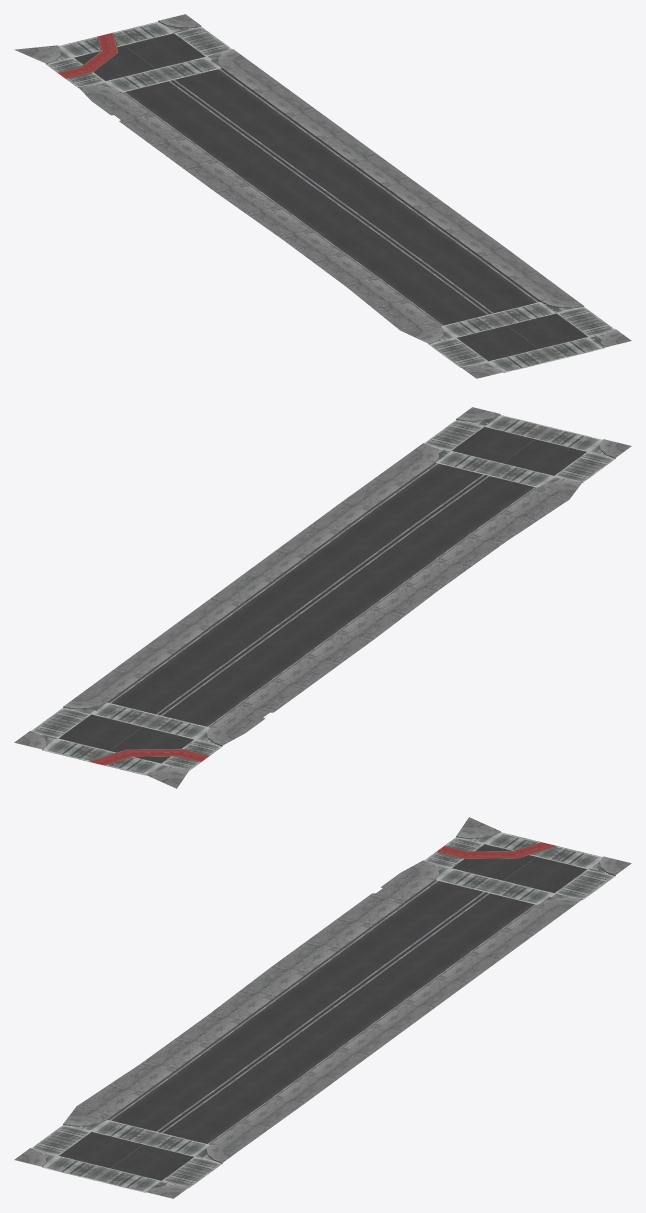
The model's file is roadssfse52.obj.
3 renders of one model, top to bottom at view 1: azimuth 30°, elevation 25°; view 2: azimuth 150°, elevation 25°; view 3: azimuth 330°, elevation 25°, orthographic. The views are drawn at different scales.
Parts seen in each view (by area): view 1: roadsSFSE52; view 2: roadsSFSE52; view 3: roadsSFSE52.
Boxes of the visible parts, left/top/right/bottom form: roadsSFSE52: left=14, top=14, right=631, bottom=378; roadsSFSE52: left=14, top=407, right=631, bottom=788; roadsSFSE52: left=14, top=817, right=631, bottom=1198.
Bounding box in the file's own units: 30.03 × 0.15 × 142.
Materials: 4 (4 with a texture image).
